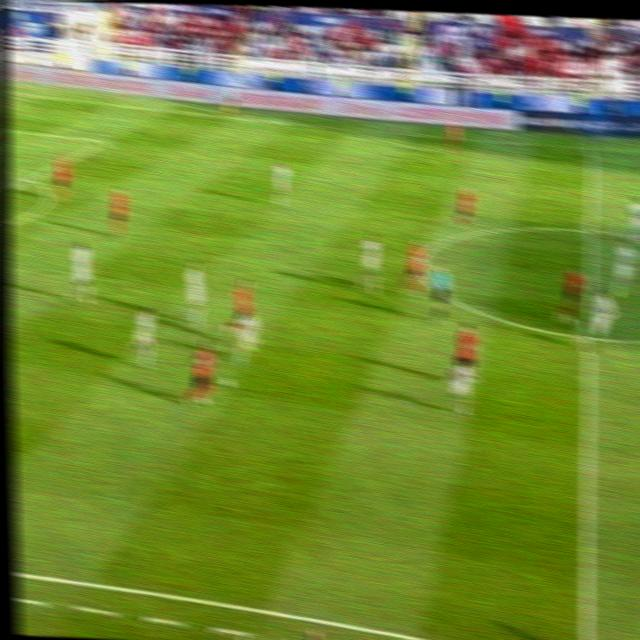bigarea_top_inner: (92, 130, 113, 148)
halfcircle_bottom: (574, 320, 603, 353)
halfcircle_top: (578, 218, 603, 240)
midline_top_intersection: (582, 137, 600, 155)
top_arc_area_intersection: (19, 167, 38, 185)
